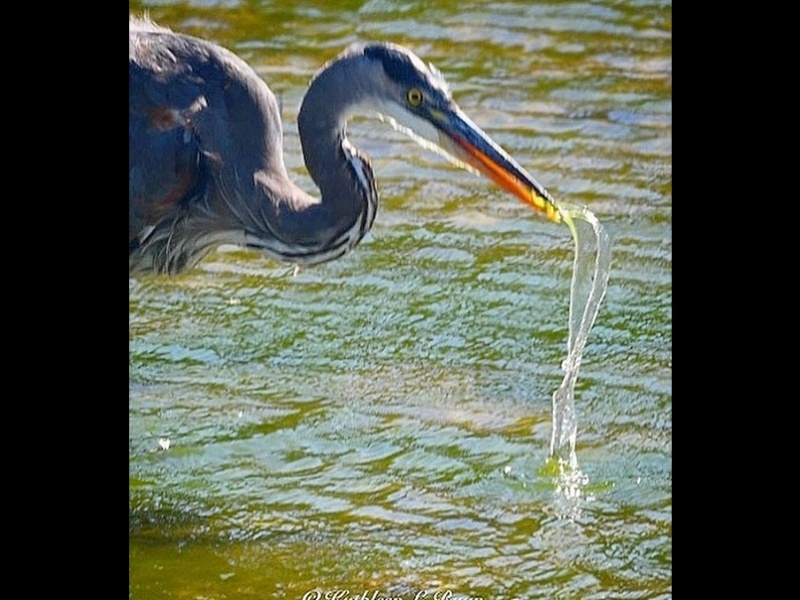heron: (129, 13, 564, 279)
